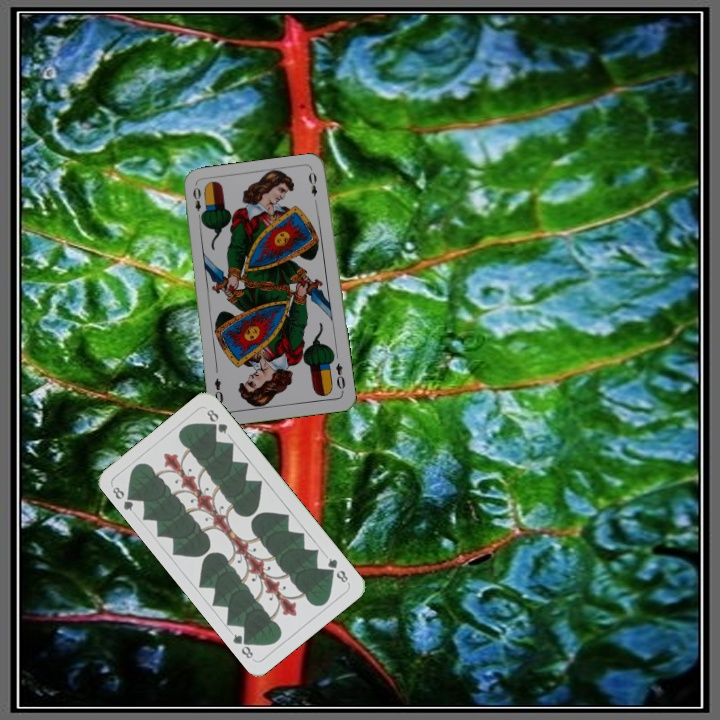EO: (189, 183, 206, 223), (332, 359, 348, 395)
G8: (108, 482, 139, 514), (323, 554, 351, 586)
